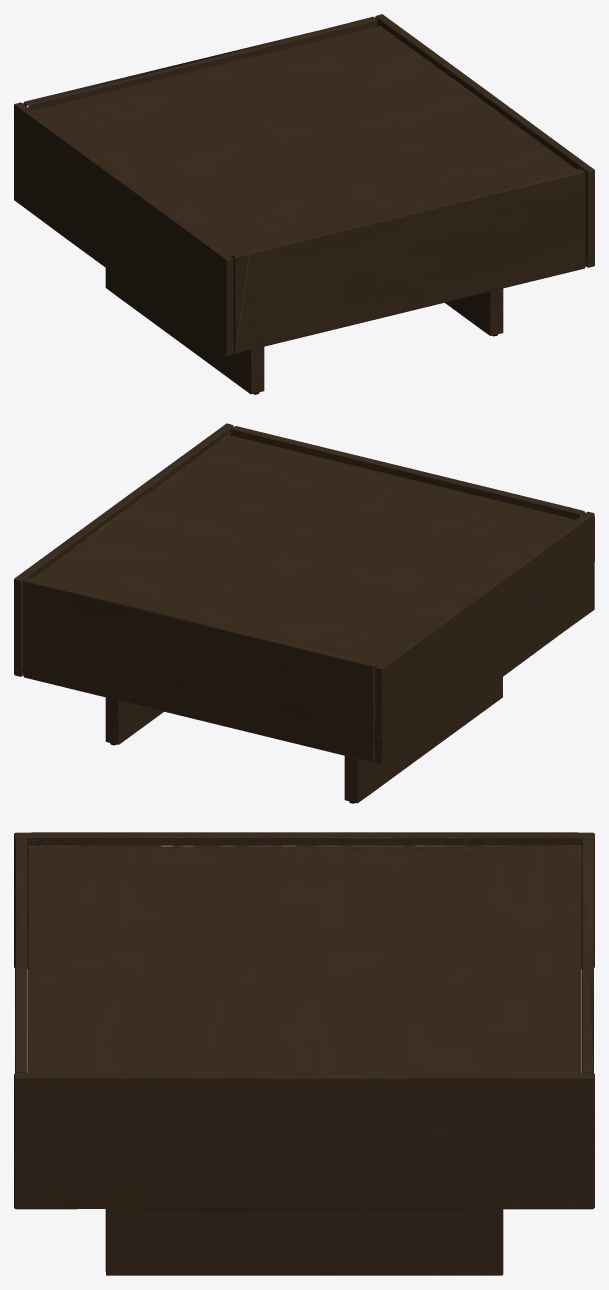
3 views of the same model, one above another, from view 1: azimuth 30°, elevation 25°; view 2: azimuth 150°, elevation 25°; view 3: azimuth 270°, elevation 25° (orthographic). The views are drawn at different scales.
Parts seen in each view (by area): view 1: ASY_ART_10608998_S01_NV01; view 2: ASY_ART_10608998_S01_NV01; view 3: ASY_ART_10608998_S01_NV01.
Part boxes in pixels (x1=…): ASY_ART_10608998_S01_NV01: x1=14, y1=14, x2=594, y2=394; ASY_ART_10608998_S01_NV01: x1=14, y1=423, x2=594, y2=803; ASY_ART_10608998_S01_NV01: x1=14, y1=832, x2=594, y2=1275.
Size of the model in its own units: 0.9002 by 0.4103 by 0.9002.
1 material, 1 textured.
